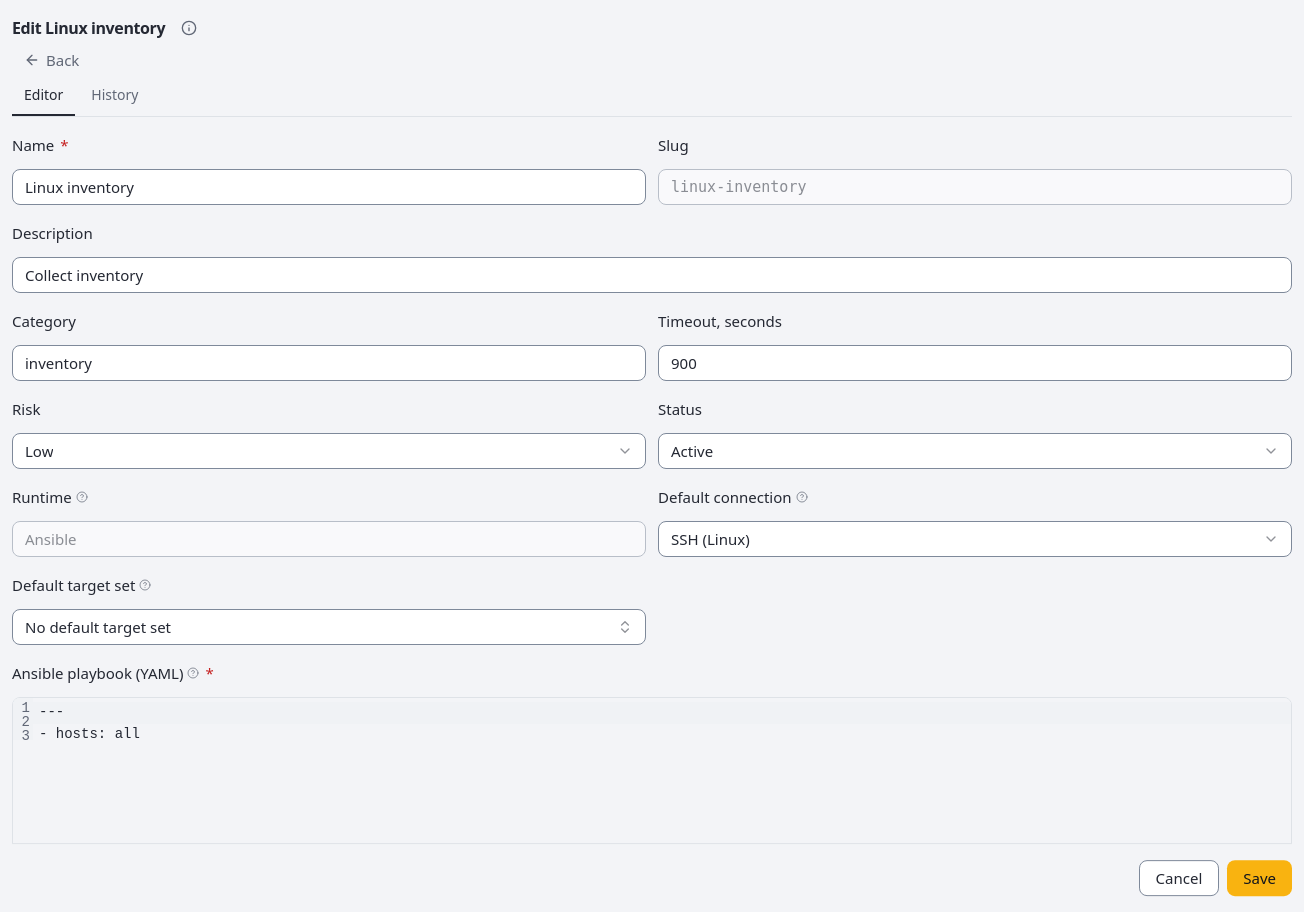
Test: PlaybookEditorPage (routed) › shows the unsaved-changes guard once the form is edited
expect the heading "Edit Linux inventory" is shown: met, box [12,16,165,40]
expect the text "unsaved changes" is not shown: met
Replace the text in the field showing "Linux inventory" with "Linux inventory edited" at (329,187), box [12,169,646,205]
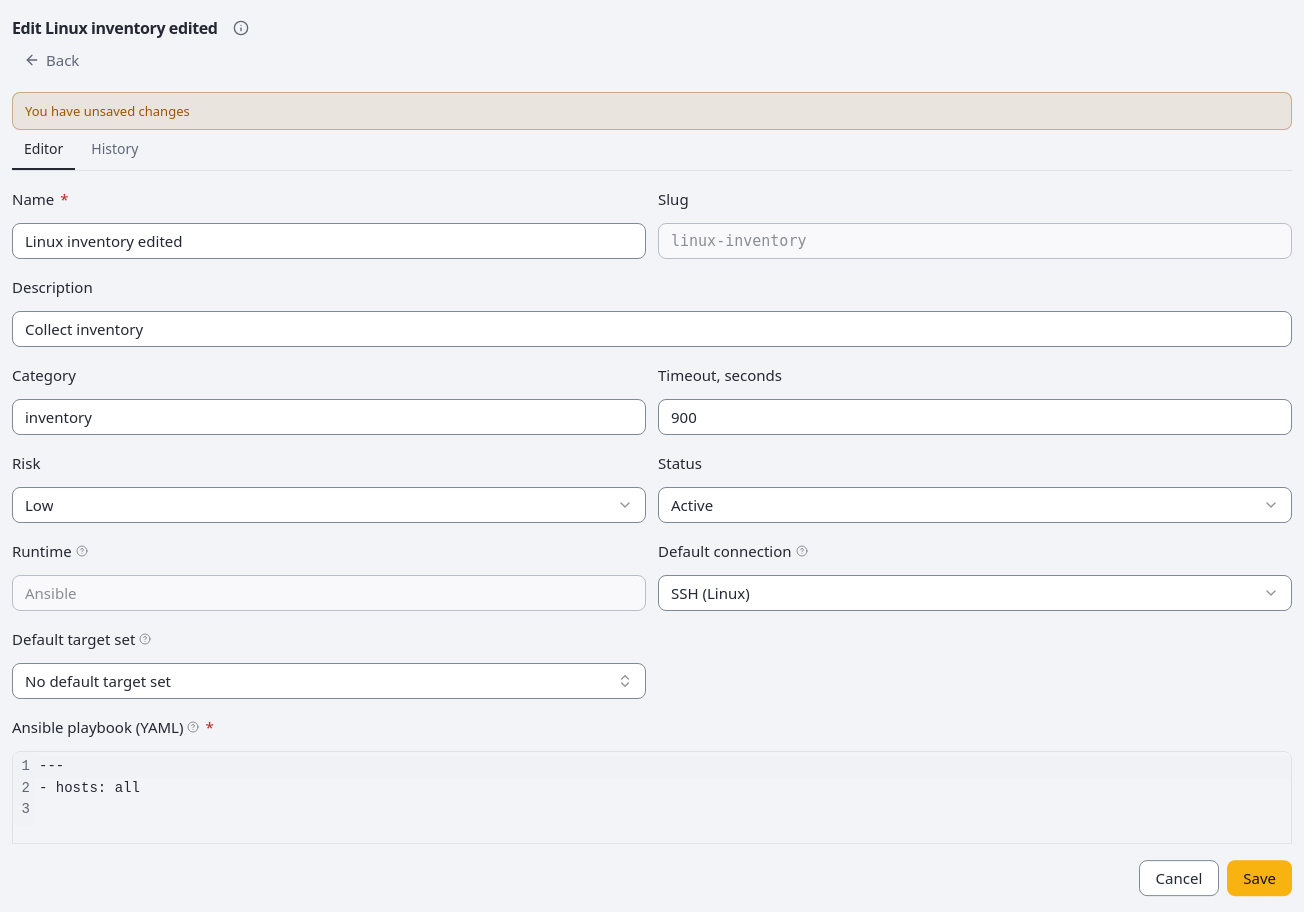
expect the text "You have unsaved changes" is shown: met, box [12,92,1292,130]
